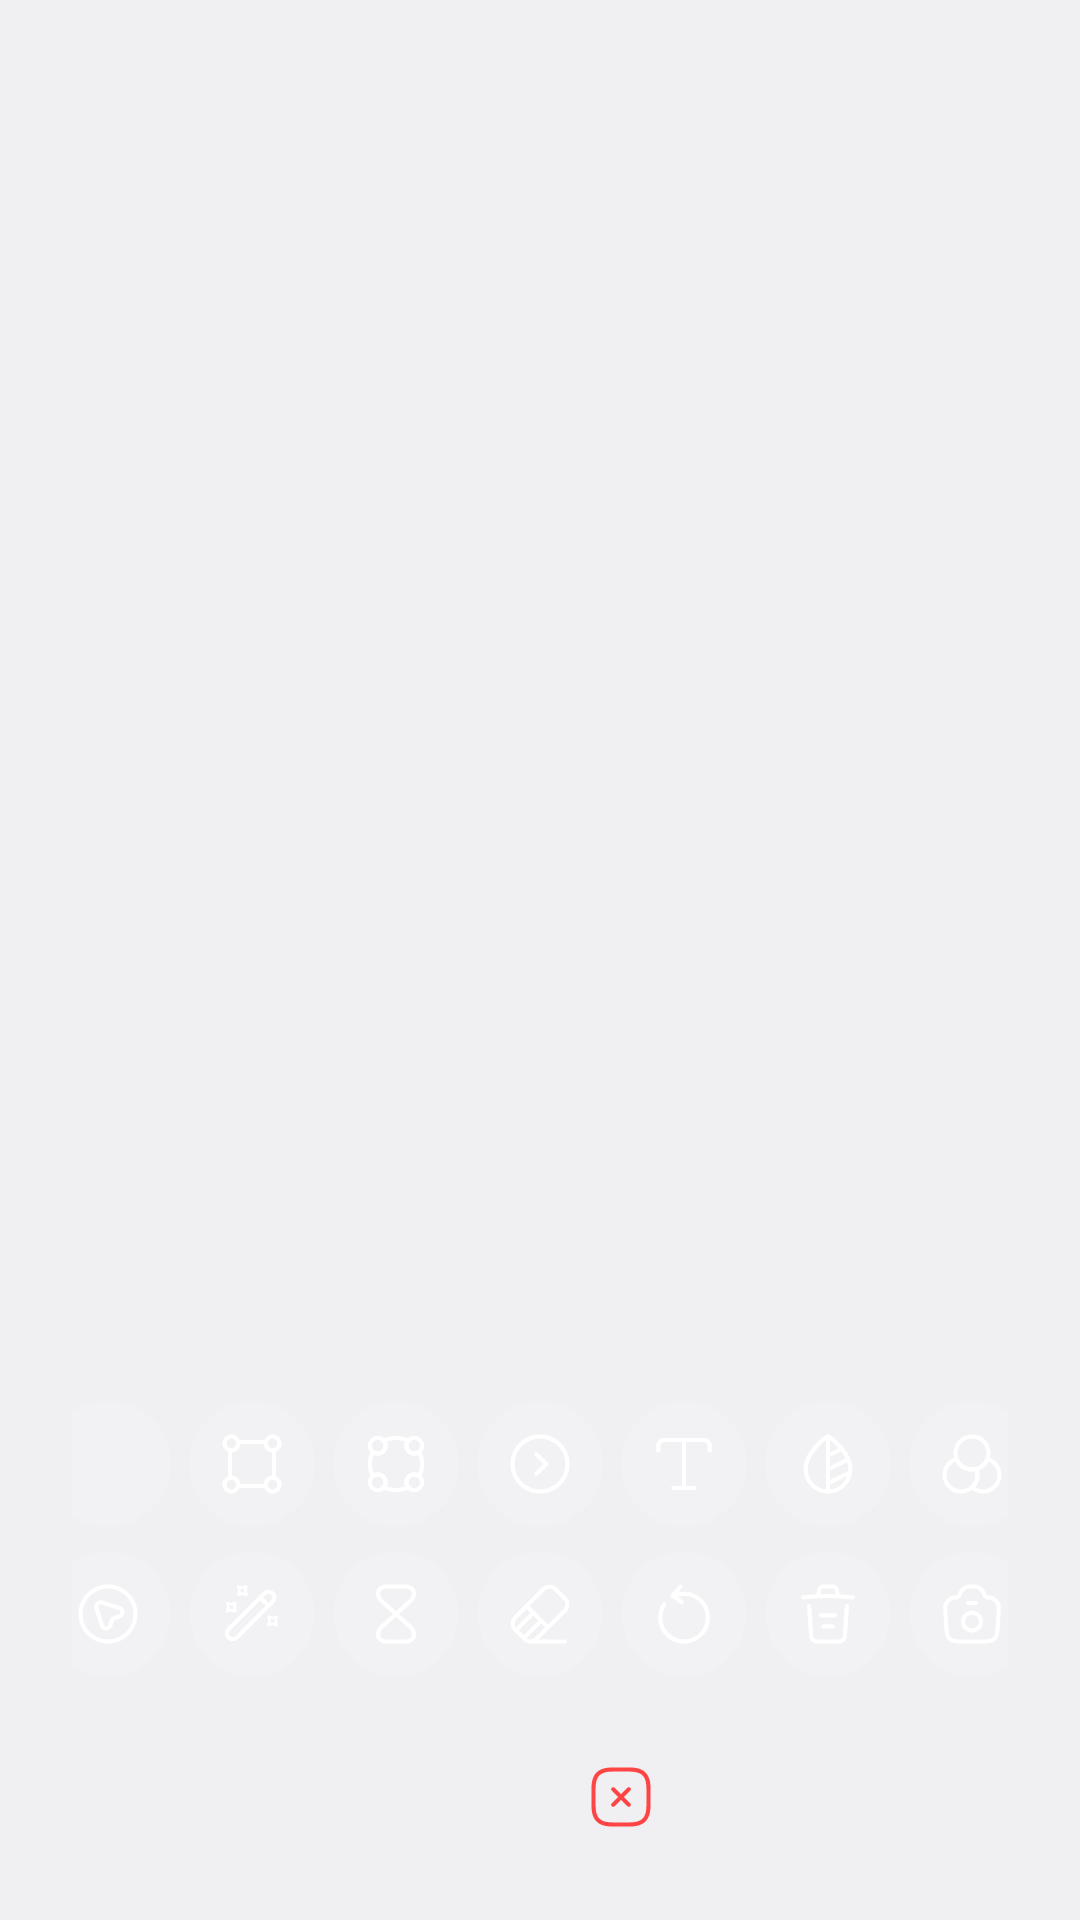

Point at icon controls on the screen. Image size 1080*1920, points as point (x, y).
close square: point (621, 1797)
